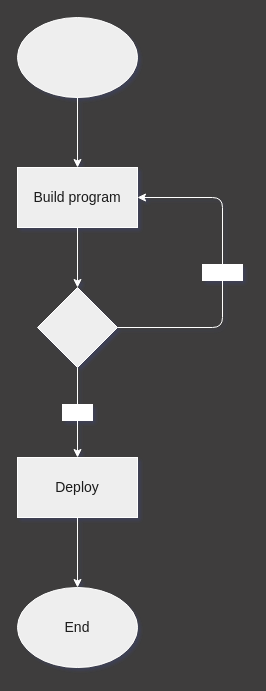
The diagram is 266 pixels wide and 691 high, and some of its shapes have lost their labels. Here are the shapes that lost their labels. From the top down, the box of each, then its label:
(16, 16, 138, 98): Run
(36, 286, 118, 368): Test
